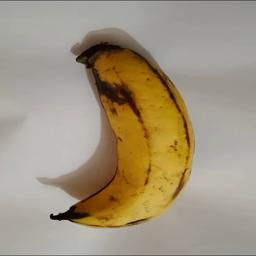Banana Semifresh: (56, 34, 195, 233)
